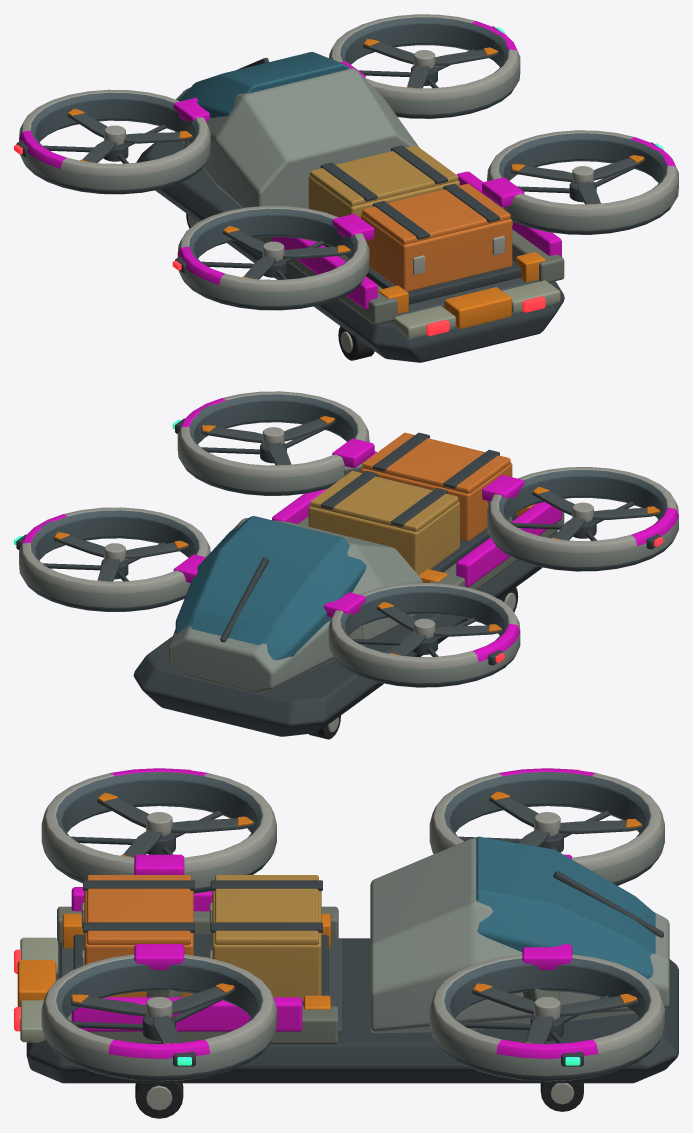
File: supply-tiltrotor.glb
3 views of the same model, one above another, from view 1: azimuth 30°, elevation 25°; view 2: azimuth 150°, elevation 25°; view 3: azimuth 270°, elevation 25° (orthographic). The views are drawn at different scales.
Parts seen in each view (by area): view 1: Airframe, SupplyCargo, FanNacelleL1, FanNacelleL2, FanNacelleR2, FanNacelleR1, FanRotorR1, FanRotorR2, FanRotorL2, FanRotorL1; view 2: Airframe, SupplyCargo, FanNacelleL1, FanNacelleL2, FanNacelleR2, FanNacelleR1, FanRotorR2, FanRotorR1, FanRotorL2, FanRotorL1; view 3: Airframe, SupplyCargo, FanNacelleR2, FanNacelleR1, FanNacelleL2, FanNacelleL1, FanRotorR2, FanRotorR1, FanRotorL2, FanRotorL1.
Boxes of the visible parts, box(x1,y1,x2,y2) form: Airframe: box(136, 52, 564, 362); SupplyCargo: box(308, 145, 521, 304); FanNacelleL1: box(14, 89, 210, 194); FanNacelleL2: box(172, 206, 369, 310); FanNacelleR2: box(487, 130, 678, 234); FanNacelleR1: box(329, 14, 520, 118); FanRotorR1: box(363, 39, 498, 88); FanRotorR2: box(510, 155, 644, 204); FanRotorL2: box(222, 226, 351, 279); FanRotorL1: box(67, 108, 192, 162); Airframe: box(133, 438, 564, 739); SupplyCargo: box(308, 432, 516, 575); FanNacelleL1: box(328, 583, 520, 687); FanNacelleL2: box(487, 467, 678, 571); FanNacelleR2: box(172, 391, 369, 495); FanNacelleR1: box(14, 507, 210, 611); FanRotorR2: box(201, 416, 335, 465); FanRotorR1: box(53, 532, 188, 581); FanRotorL2: box(532, 487, 660, 540); FanRotorL1: box(377, 602, 502, 656); Airframe: box(14, 836, 678, 1118); SupplyCargo: box(73, 875, 328, 1005); FanNacelleR2: box(41, 954, 276, 1081); FanNacelleR1: box(429, 954, 664, 1081); FanNacelleL2: box(41, 768, 276, 893); FanNacelleL1: box(429, 768, 664, 885); FanRotorR2: box(70, 983, 234, 1043); FanRotorR1: box(472, 983, 637, 1043); FanRotorL2: box(97, 793, 254, 857); FanRotorL1: box(489, 791, 642, 846).
Bounding box in the file's own units: 3.46 × 1.16 × 3.35.
